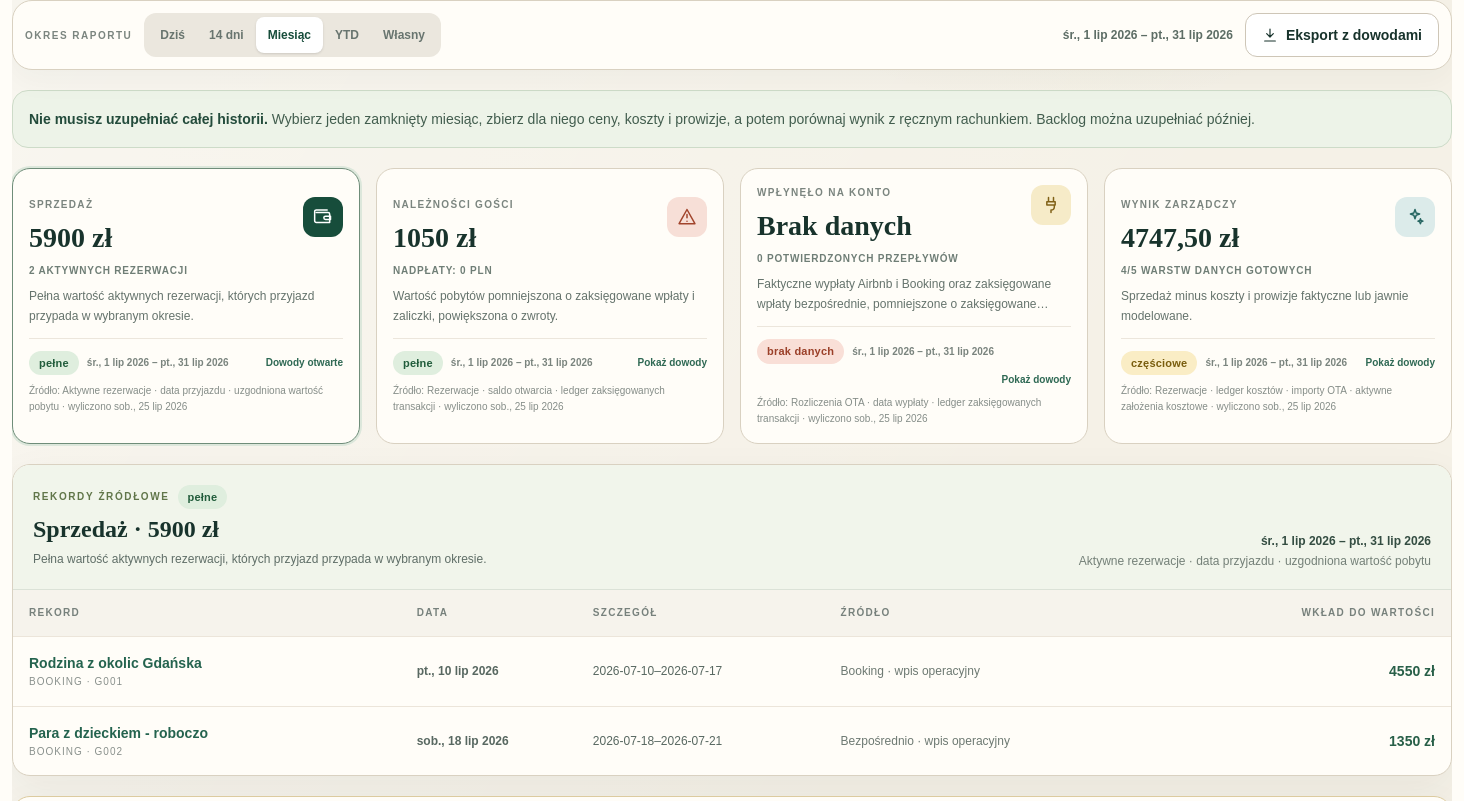
FinancesView — PR-6c evidence flow › supports a custom inclusive date range without showing a global historical total
Step 1. Click the button "Własny" → (404, 35), box x1=371 y1=17 x2=437 y2=53
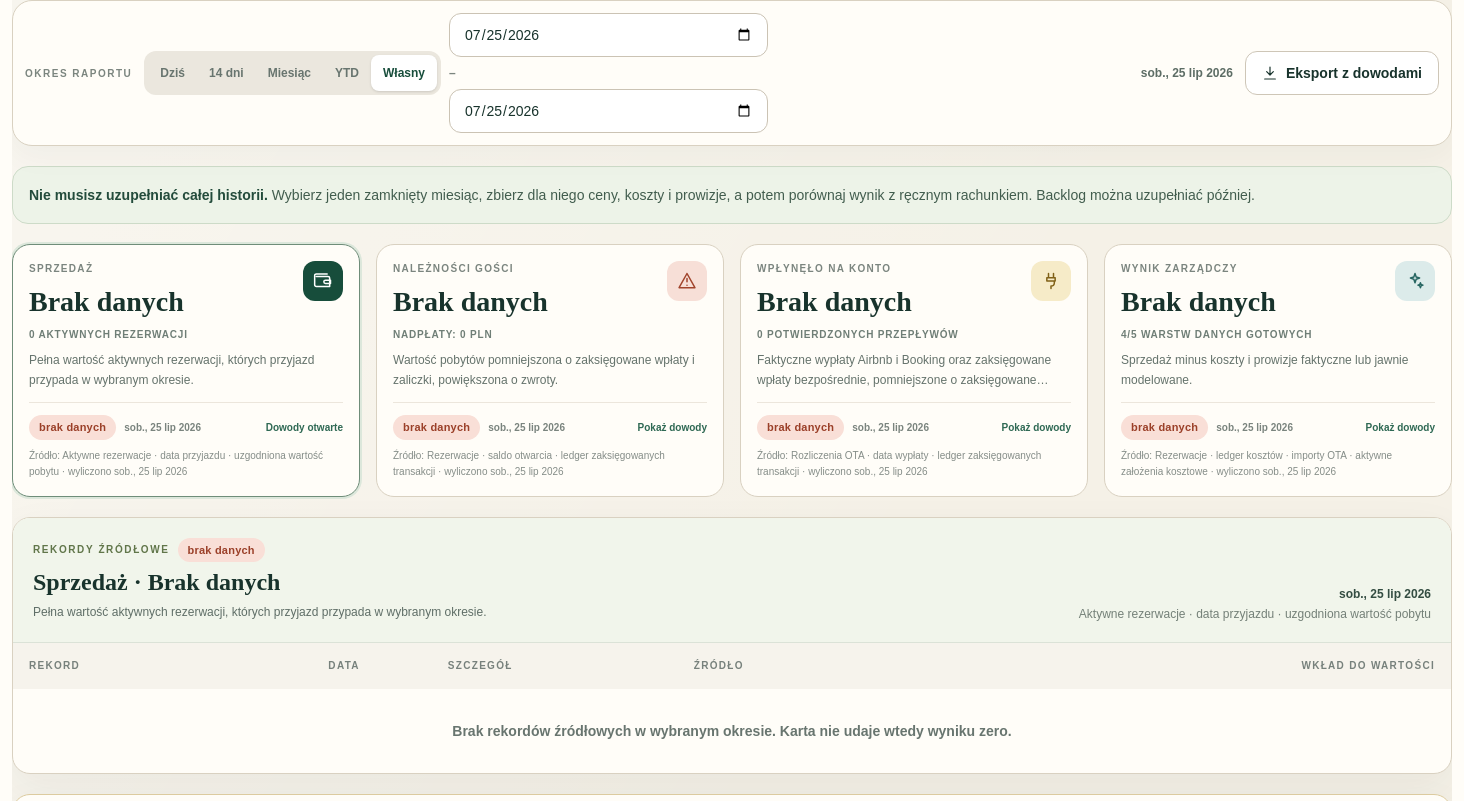
Step 2. Type "2026-07-01" into the date field named "Początek własnego okresu" → (608, 35), box x1=449 y1=13 x2=768 y2=57
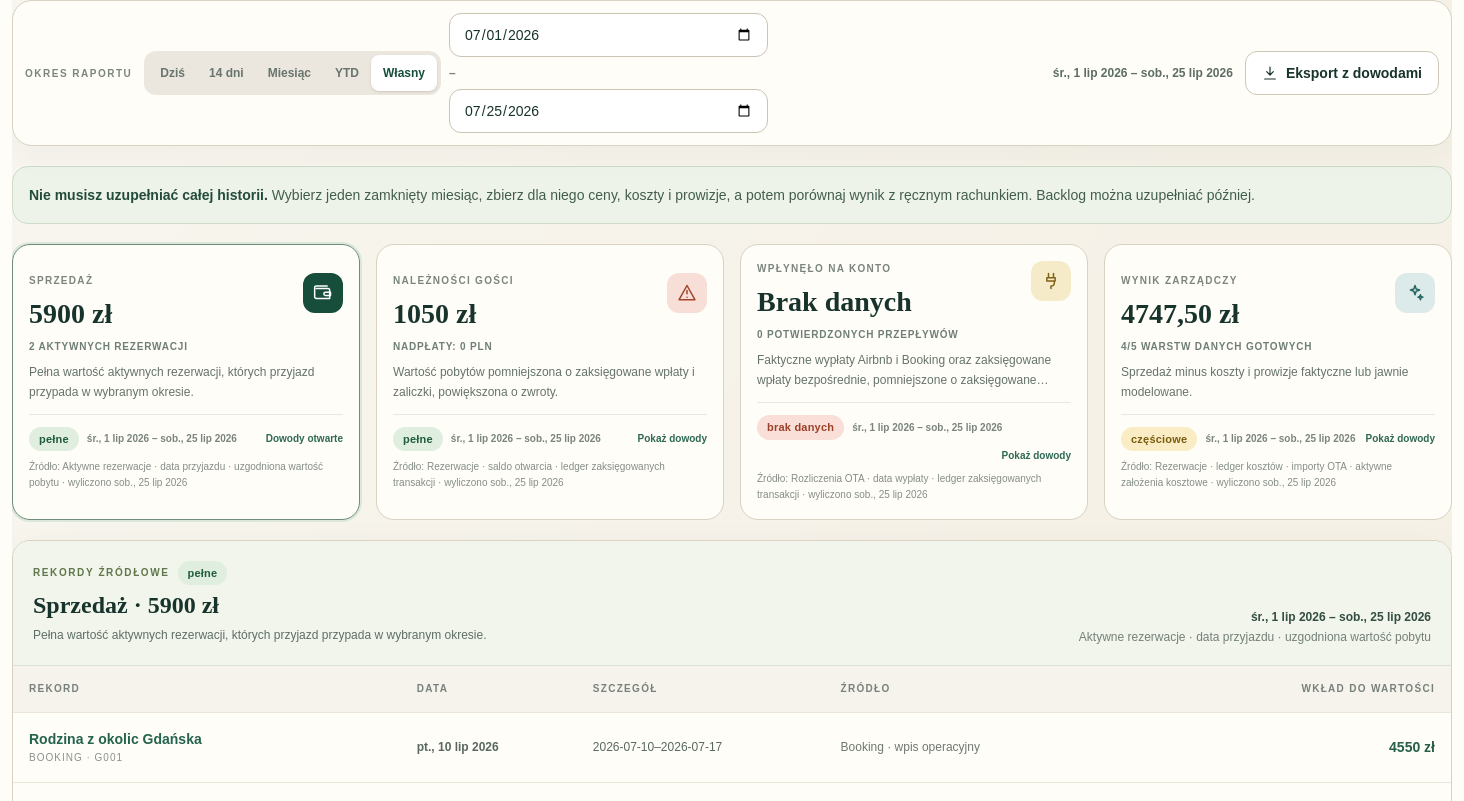
Step 3. Type "2026-07-31" into the date field named "Koniec własnego okresu" → (608, 111), box x1=449 y1=89 x2=768 y2=133
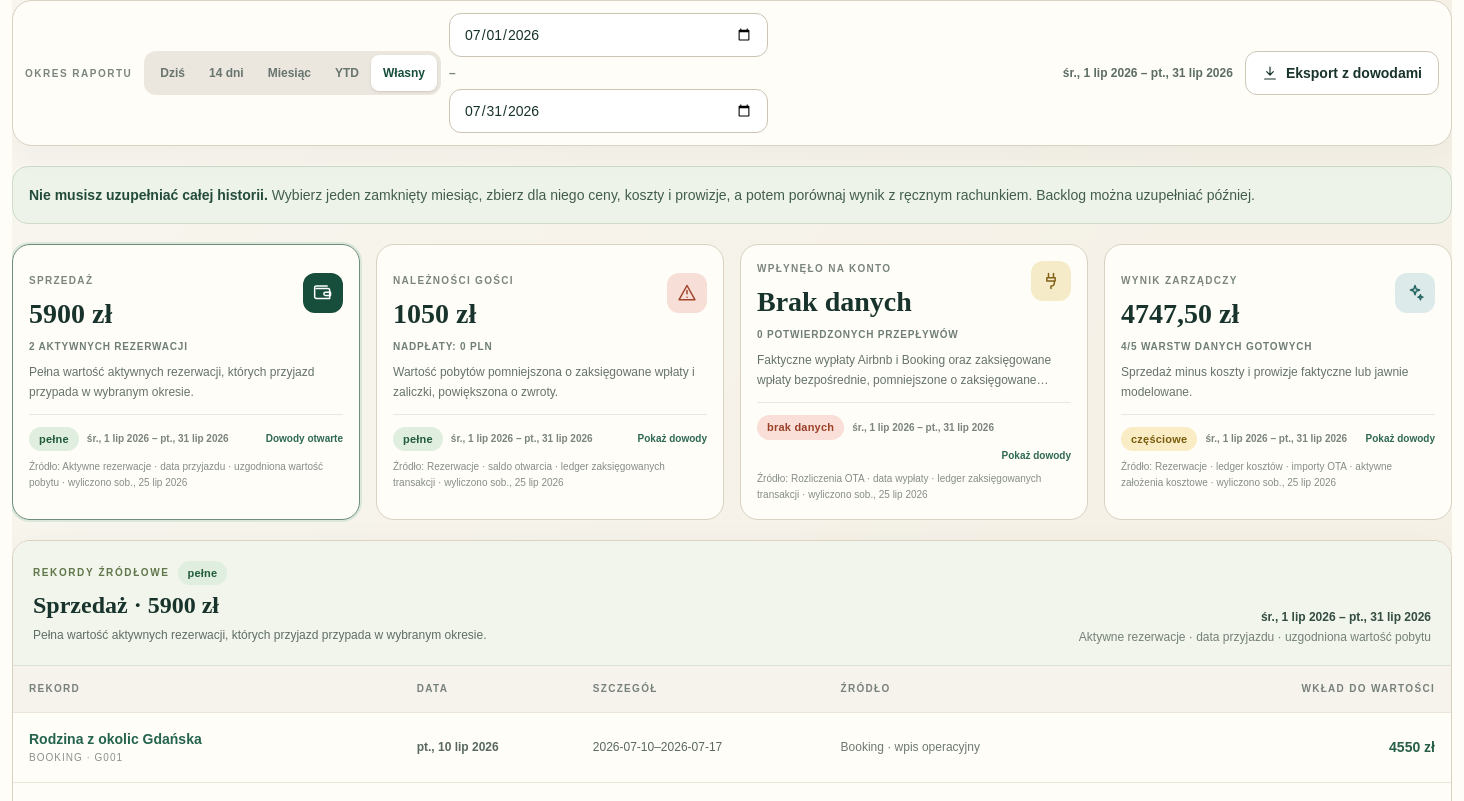
Expected: the text "śr., 1 lip 2026 – pt., 31 lip 2026" in the row of "Okres raportu" is shown, x1=1063 y1=66 x2=1233 y2=80
